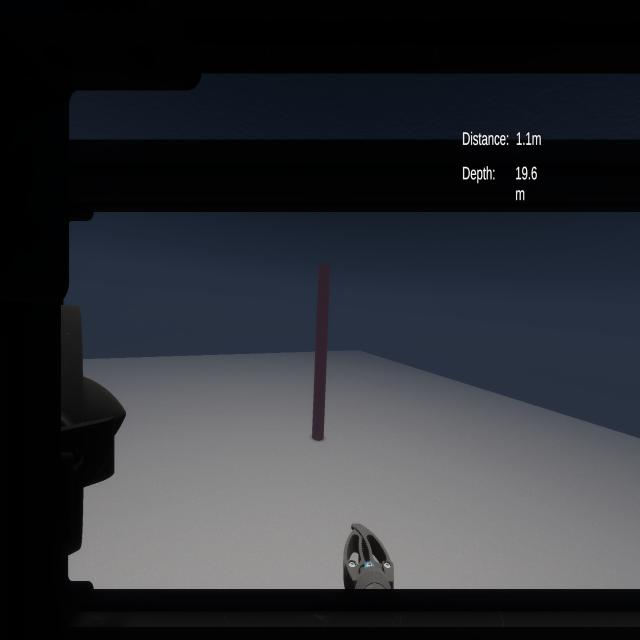Depth: (460, 157, 550, 207)
Distance: (459, 123, 549, 152)
Pole: (303, 237, 340, 459)
